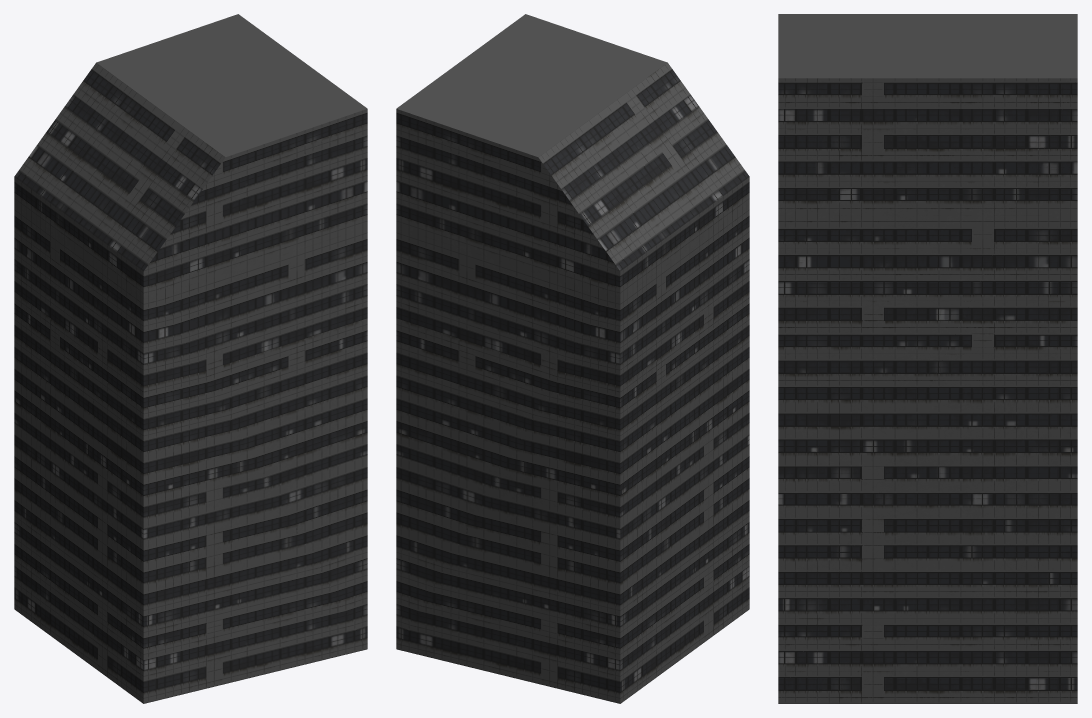
Rendered from Mesh_Chamfered-Slope.fbx.
3 renders of one model, left to right at view 1: azimuth 30°, elevation 25°; view 2: azimuth 150°, elevation 25°; view 3: azimuth 270°, elevation 25°, orthographic. The views are drawn at different scales.
Visible parts, largest first — view 1: Mesh_Chamfered-Slope; view 2: Mesh_Chamfered-Slope; view 3: Mesh_Chamfered-Slope.
Boxes of the visible parts, <box> form: Mesh_Chamfered-Slope: <box>14,14,367,703</box>; Mesh_Chamfered-Slope: <box>396,14,749,703</box>; Mesh_Chamfered-Slope: <box>778,14,1077,703</box>.
Bounding box in the file's own units: 36.72 × 84.61 × 36.72.
